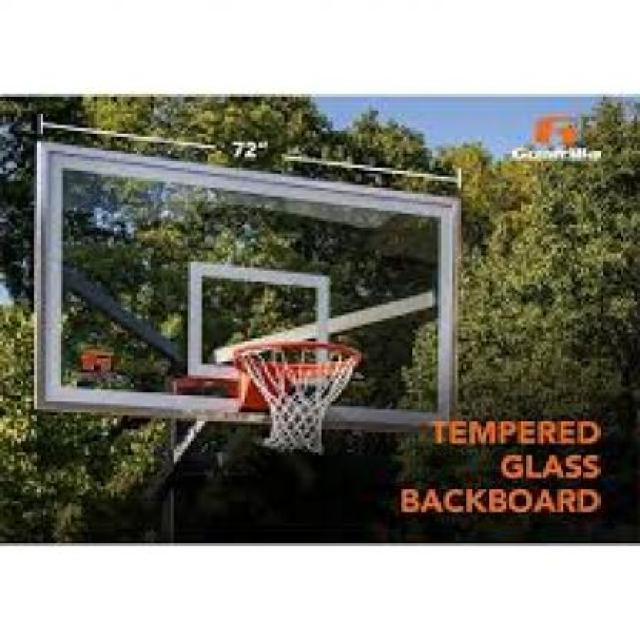rim: (236, 341, 362, 452)
